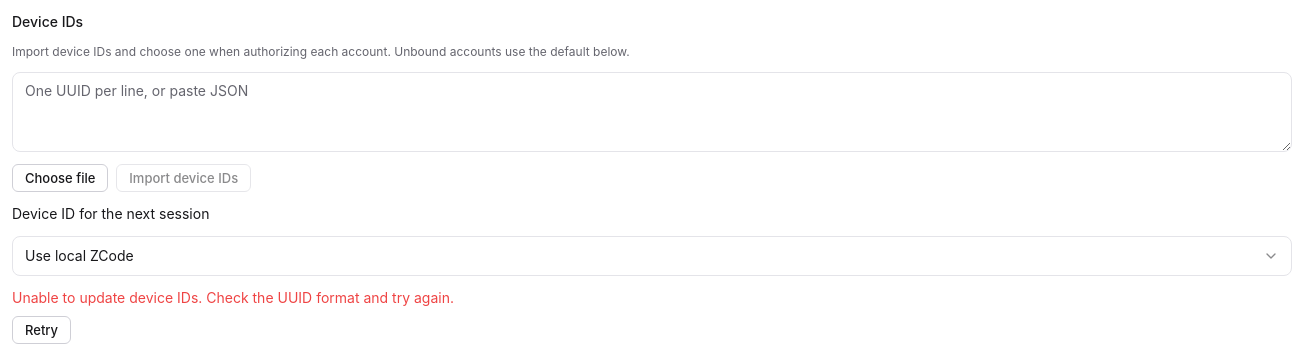
Test case: can retry an unavailable initial database read
The width and height of the screenshot is (1304, 361).
Step 1. Click the button "Retry" → point(42, 330), box [12,316,71,344]
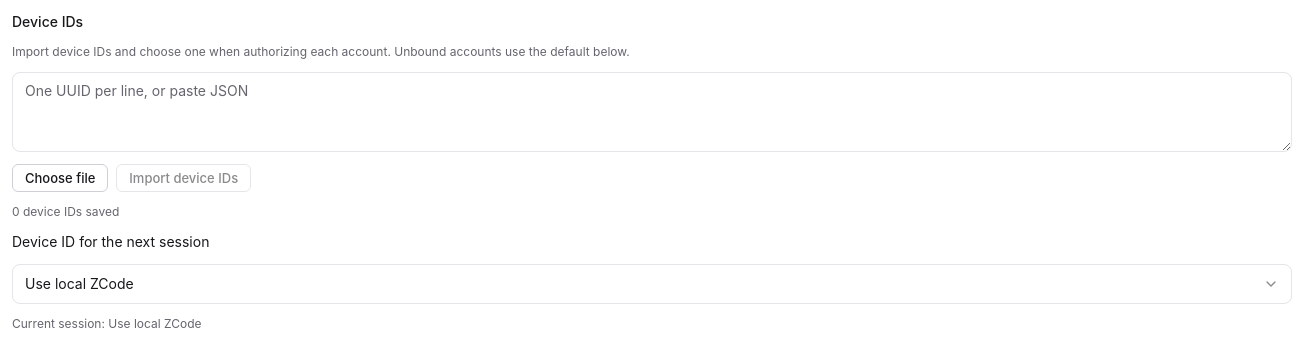
Expected: the dropdown is enabled, [12,264,1292,304]
